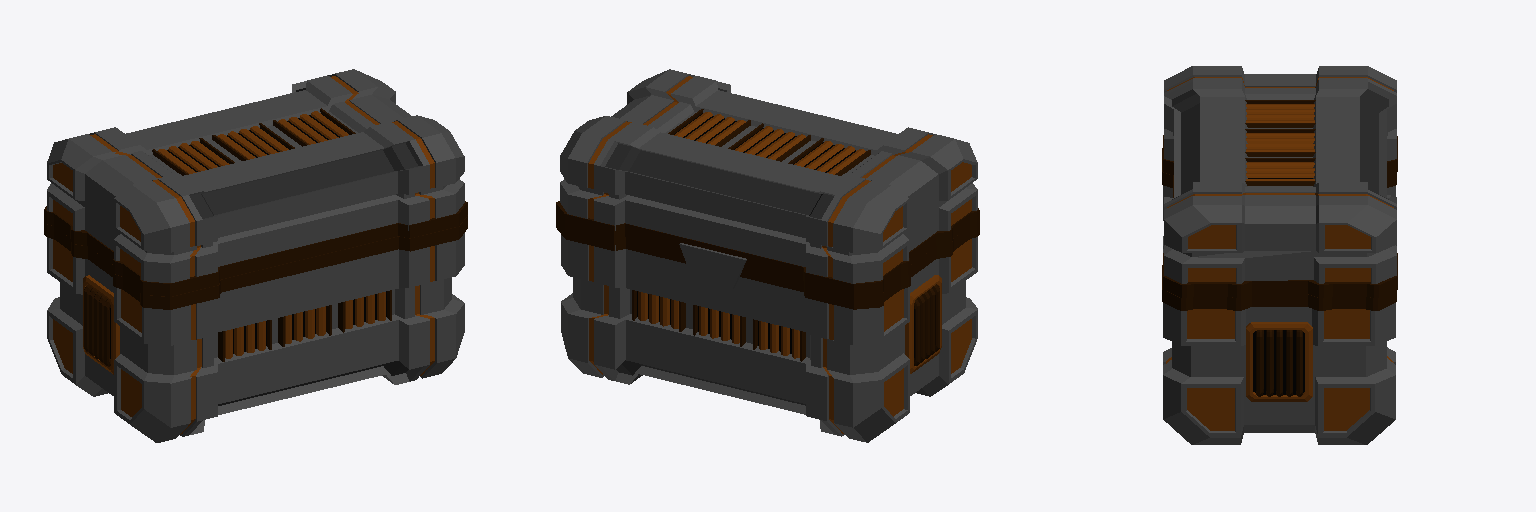
Rendered from Props_Chest.obj.
The picture shows the model from 3 angles: view 1: azimuth 30°, elevation 25°; view 2: azimuth 150°, elevation 25°; view 3: azimuth 270°, elevation 25°; orthographic projection.
Parts seen in each view (by area): view 1: Props_ChestTop_Cube.024, Props_ChestBottom_Cube.022; view 2: Props_ChestTop_Cube.024, Props_ChestBottom_Cube.022; view 3: Props_ChestTop_Cube.024, Props_ChestBottom_Cube.022.
Part boxes in pixels (x1,y1,x2,y2): Props_ChestTop_Cube.024: (44, 69, 467, 296); Props_ChestBottom_Cube.022: (44, 215, 467, 442); Props_ChestTop_Cube.024: (556, 69, 979, 296); Props_ChestBottom_Cube.022: (556, 216, 979, 442); Props_ChestTop_Cube.024: (1163, 66, 1397, 297); Props_ChestBottom_Cube.022: (1162, 148, 1396, 444).
Size of the model in its own units: 1.29 by 0.911 by 0.8082.